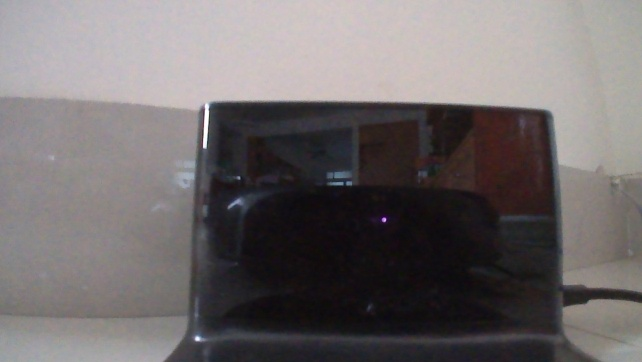wire: (559, 280, 641, 308)
